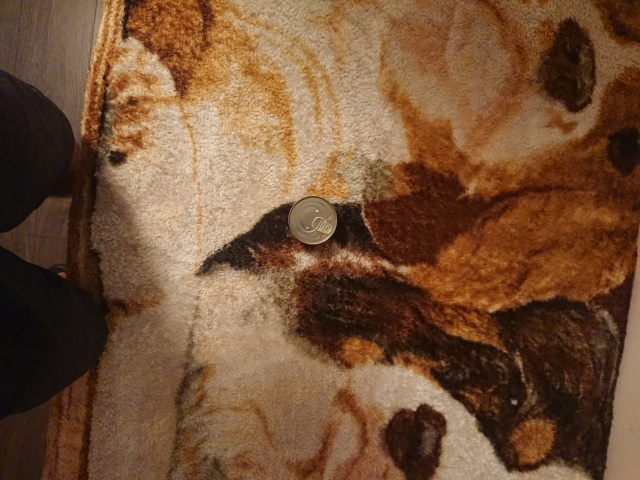Podravka Luncheon Meat 150g: (286, 193, 340, 247)
